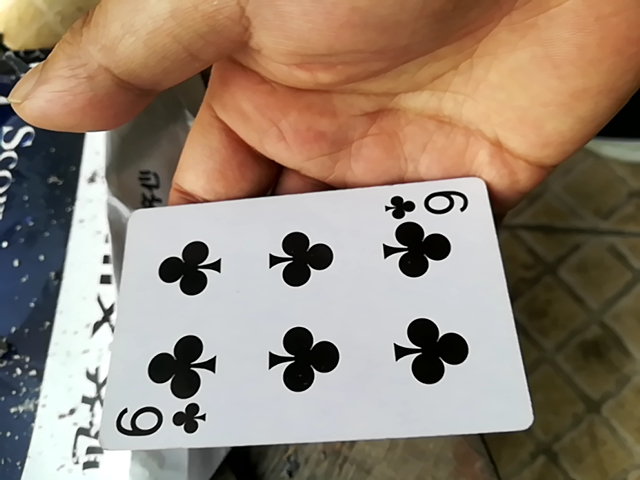mh 6: (44, 175, 534, 466)
